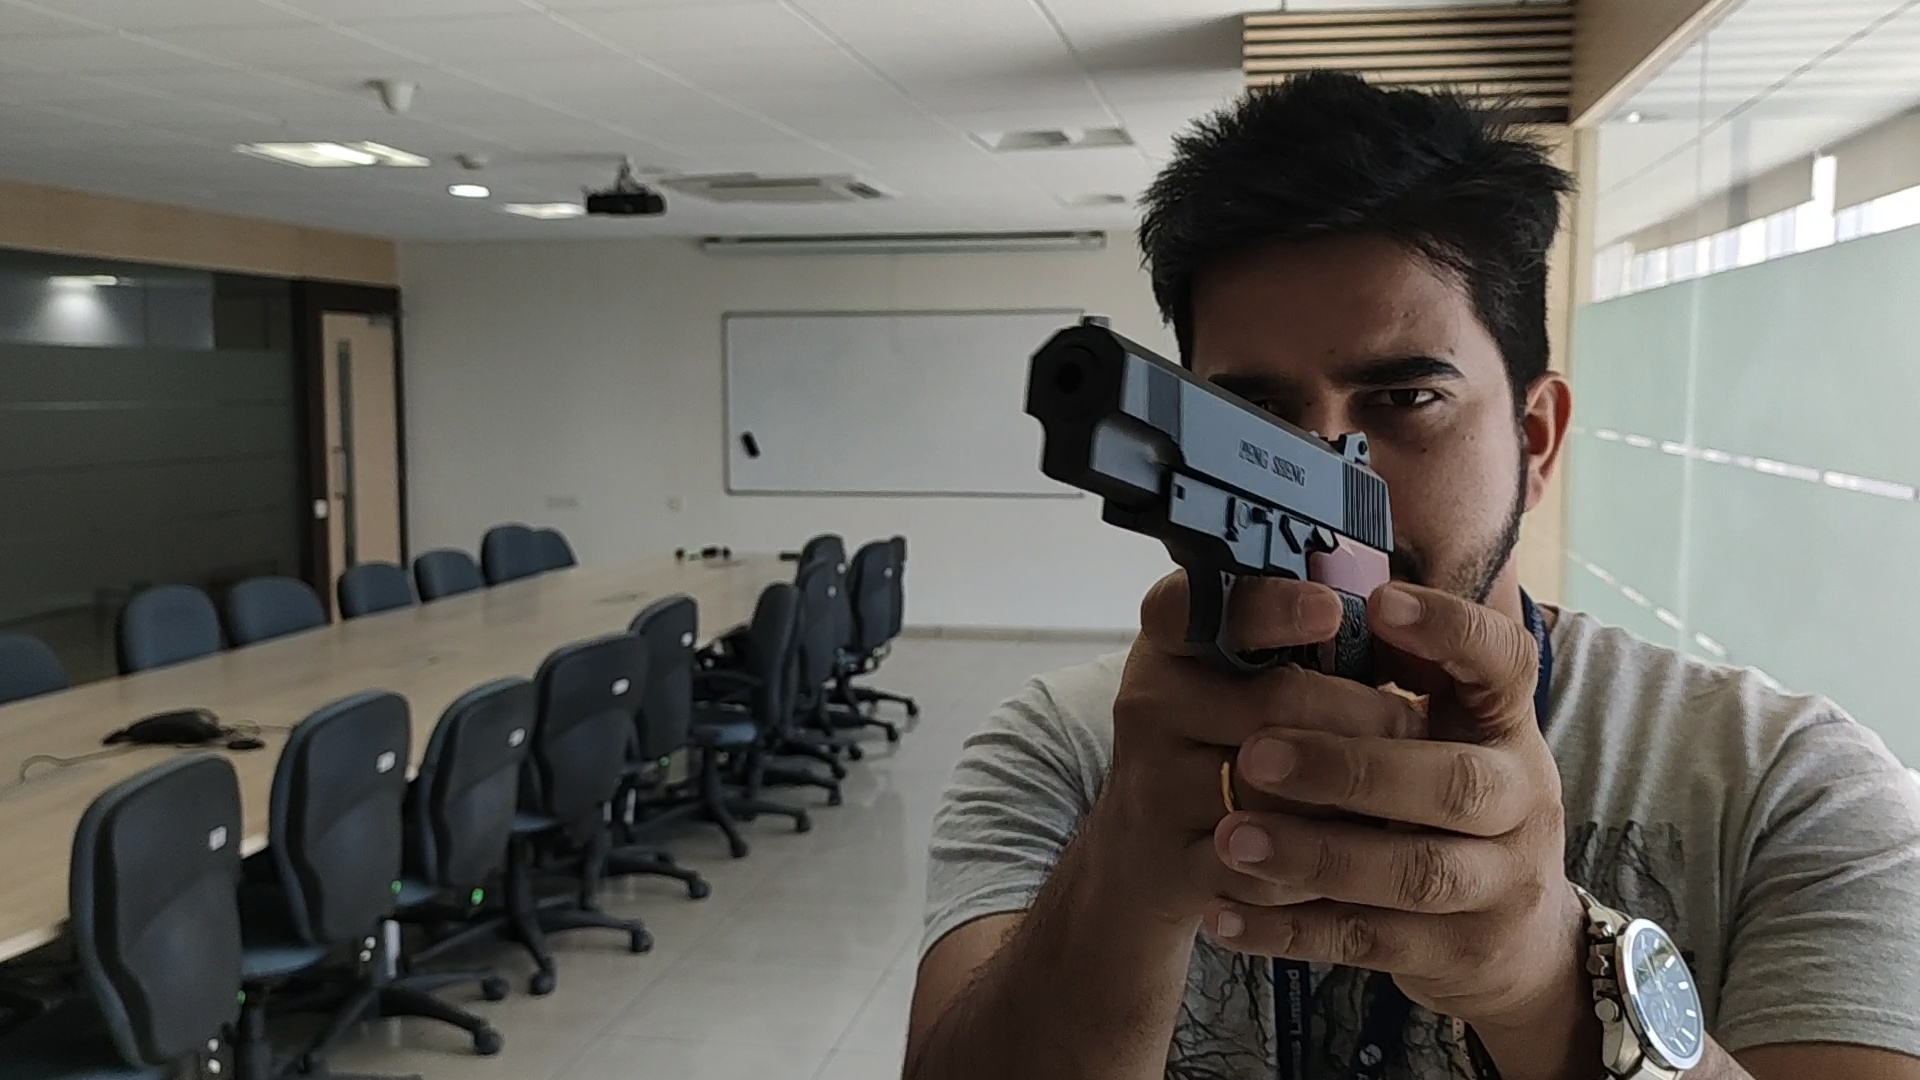gun: (1022, 315, 1365, 574)
